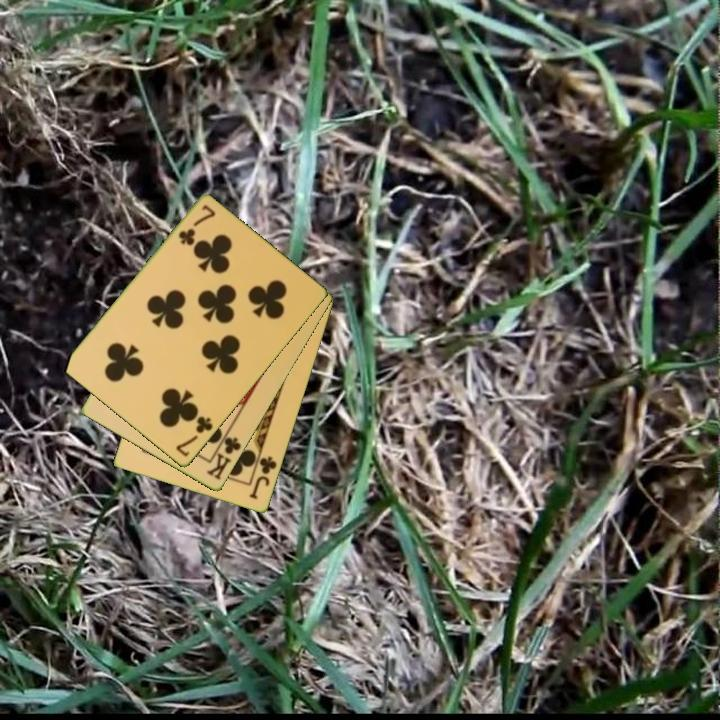7c: (175, 201, 219, 249), (172, 413, 216, 460)
Jc: (246, 453, 280, 502)
Kc: (203, 428, 244, 483)
